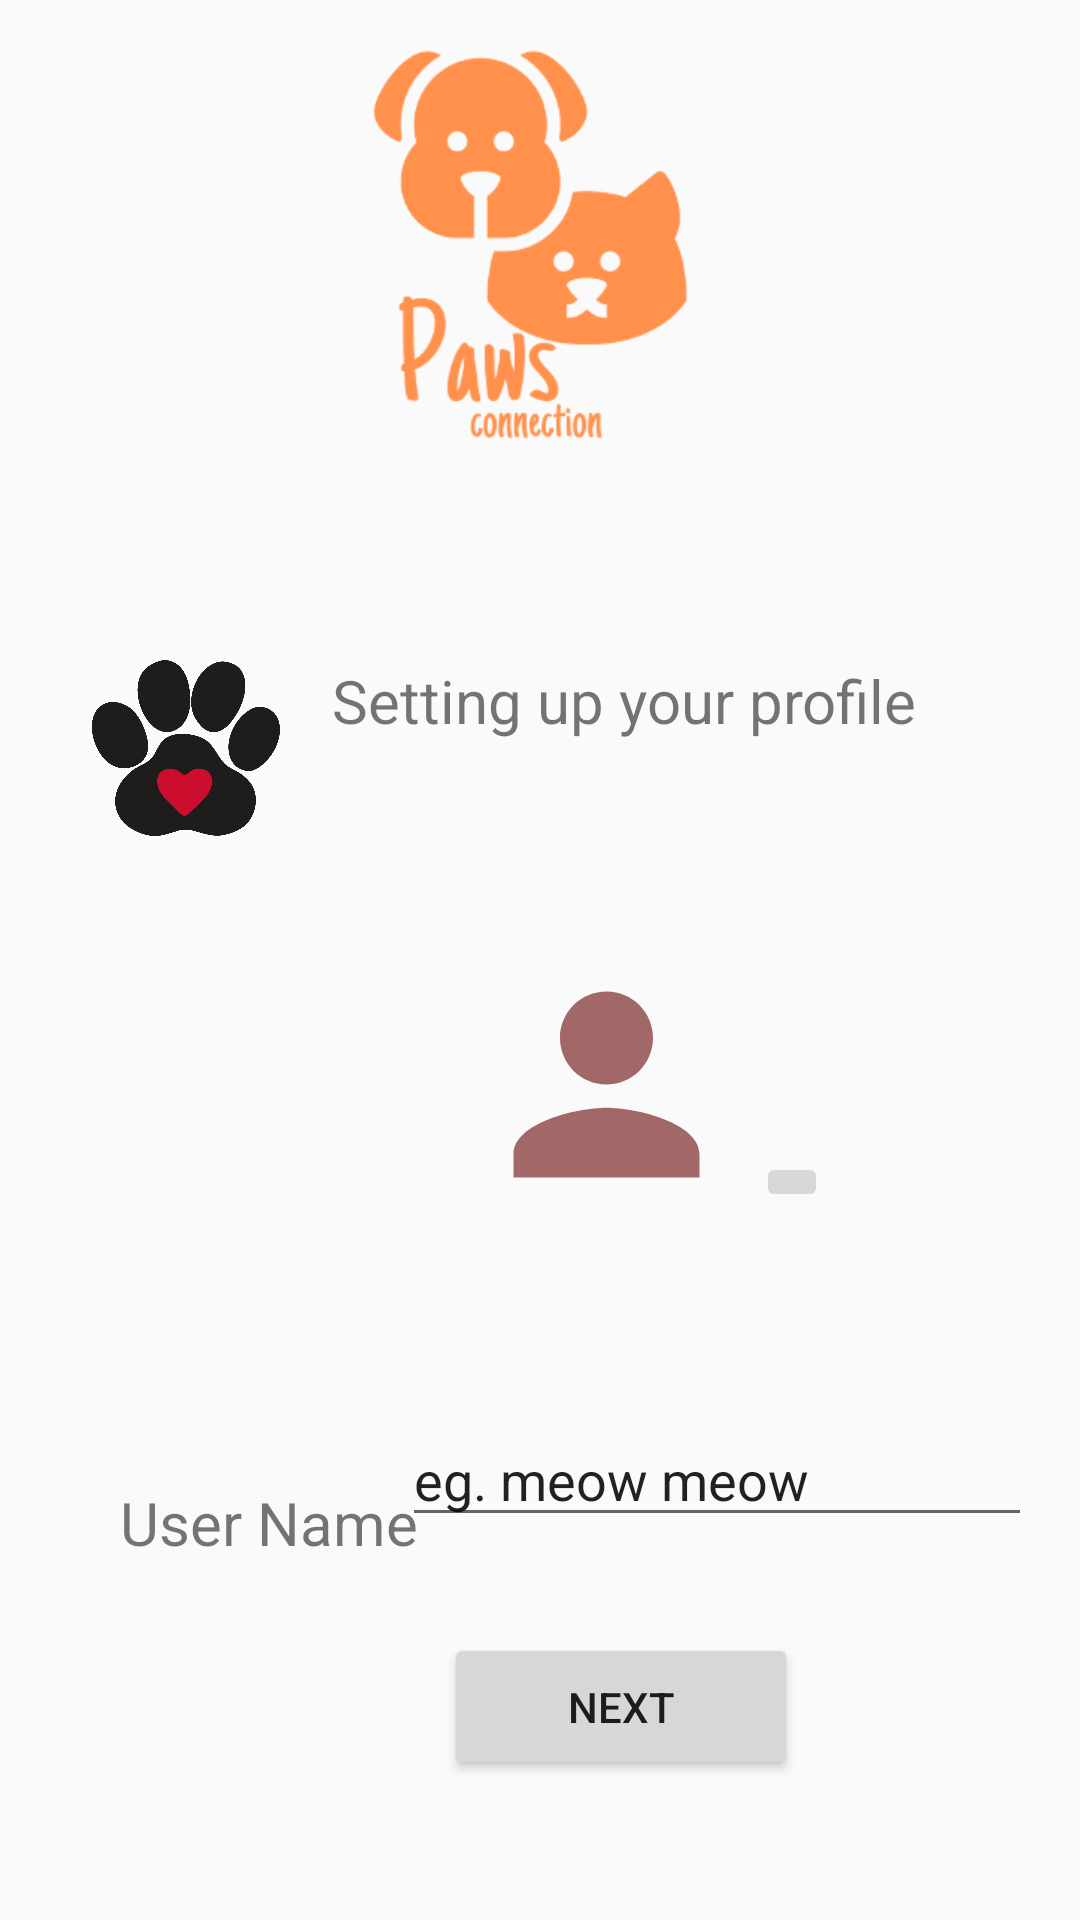

Icon bounding boxes for this 1080px×1920px phone screenshot, format rect(x1, y1, x2, y2):
person: rect(513, 991, 700, 1178)
